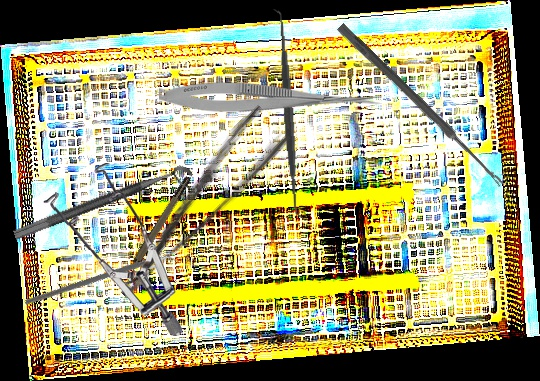Chopper: (23, 201, 181, 363)
Dressing Forceps: (92, 103, 295, 302)
Fixation Ring: (12, 162, 198, 255), (116, 174, 198, 288)
Micro Scissor: (159, 81, 382, 113)
Spatula Surgical: (269, 7, 309, 223)
Speculum: (40, 161, 185, 339)
Surgical Spoon: (335, 23, 507, 188)
